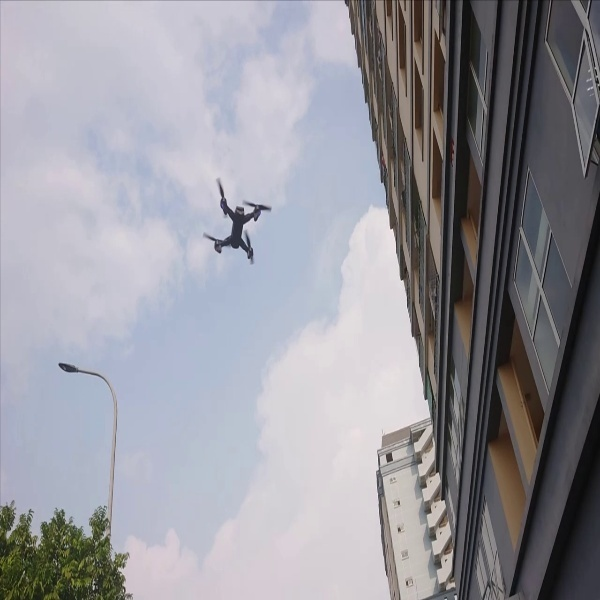drone: (194, 170, 279, 266)
